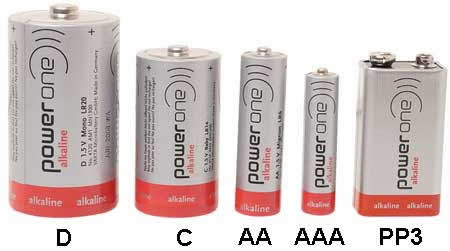Battery: (7, 1, 121, 219), (352, 50, 450, 219), (133, 41, 222, 219), (233, 45, 289, 218), (298, 64, 341, 220)
